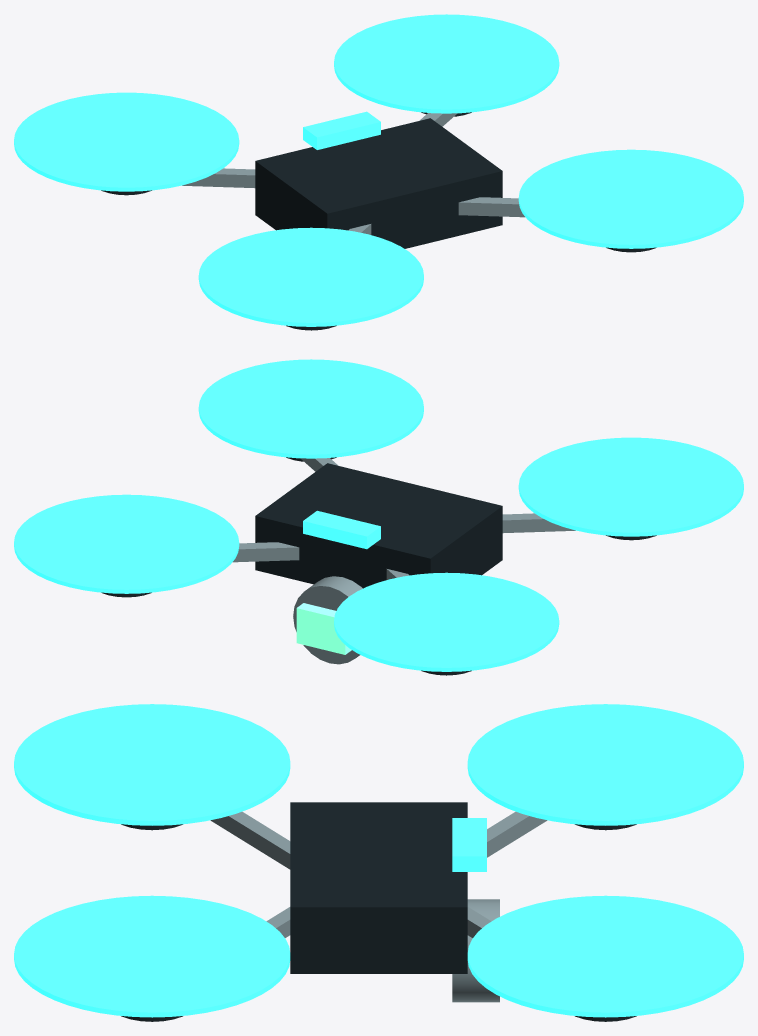
The model's file is vehicle-inspection-drone.glb.
The picture shows the model from 3 angles, top to bottom: view 1: azimuth 30°, elevation 25°; view 2: azimuth 150°, elevation 25°; view 3: azimuth 270°, elevation 25°; orthographic projection. The views are drawn at different scales.
Visible parts, largest first — view 1: inspection drone body, drone rotor disk front right, drone rotor disk front left, drone rotor disk rear right, drone rotor disk rear left, inspection drone top status light, drone arm rear right, drone arm front left; view 2: inspection drone body, drone rotor disk rear right, drone rotor disk rear left, drone rotor disk front right, drone rotor disk front left, inspection camera gimbal, inspection drone top status light, inspection camera lens, drone arm front right, drone arm rear left; view 3: inspection drone body, drone rotor disk front left, drone rotor disk rear left, drone rotor disk front right, drone rotor disk rear right, drone arm rear left, inspection drone top status light, inspection camera gimbal, drone arm front left.
Part boxes in pixels (x1,y1,x2,y2): inspection drone body: (255, 118, 502, 248); drone rotor disk front right: (334, 14, 559, 113); drone rotor disk front left: (14, 92, 239, 191); drone rotor disk rear right: (518, 149, 743, 248); drone rotor disk rear left: (198, 227, 423, 326); inspection drone top status light: (303, 111, 380, 149); drone arm rear right: (458, 197, 524, 217); drone arm front left: (182, 168, 255, 188); inspection drone body: (255, 463, 502, 588); drone rotor disk rear right: (198, 359, 423, 458); drone rotor disk rear left: (518, 437, 743, 536); drone rotor disk front right: (14, 494, 239, 593); drone rotor disk front left: (334, 572, 559, 671); inspection camera gimbal: (293, 576, 362, 664); inspection drone top status light: (303, 510, 380, 549); inspection camera lens: (296, 603, 351, 654); drone arm front right: (233, 542, 299, 562); drone arm rear left: (502, 513, 575, 533); inspection drone body: (290, 802, 467, 973); drone rotor disk front left: (467, 704, 743, 825); drone rotor disk rear left: (14, 704, 290, 825); drone rotor disk front right: (467, 895, 743, 1017); drone rotor disk rear right: (14, 895, 290, 1017); drone arm rear left: (210, 811, 290, 869); inspection drone top status light: (452, 818, 486, 871); inspection camera gimbal: (452, 899, 499, 1002); drone arm front left: (487, 811, 547, 857).
Bounding box in the file's own units: 3.38 × 0.82 × 3.38.
